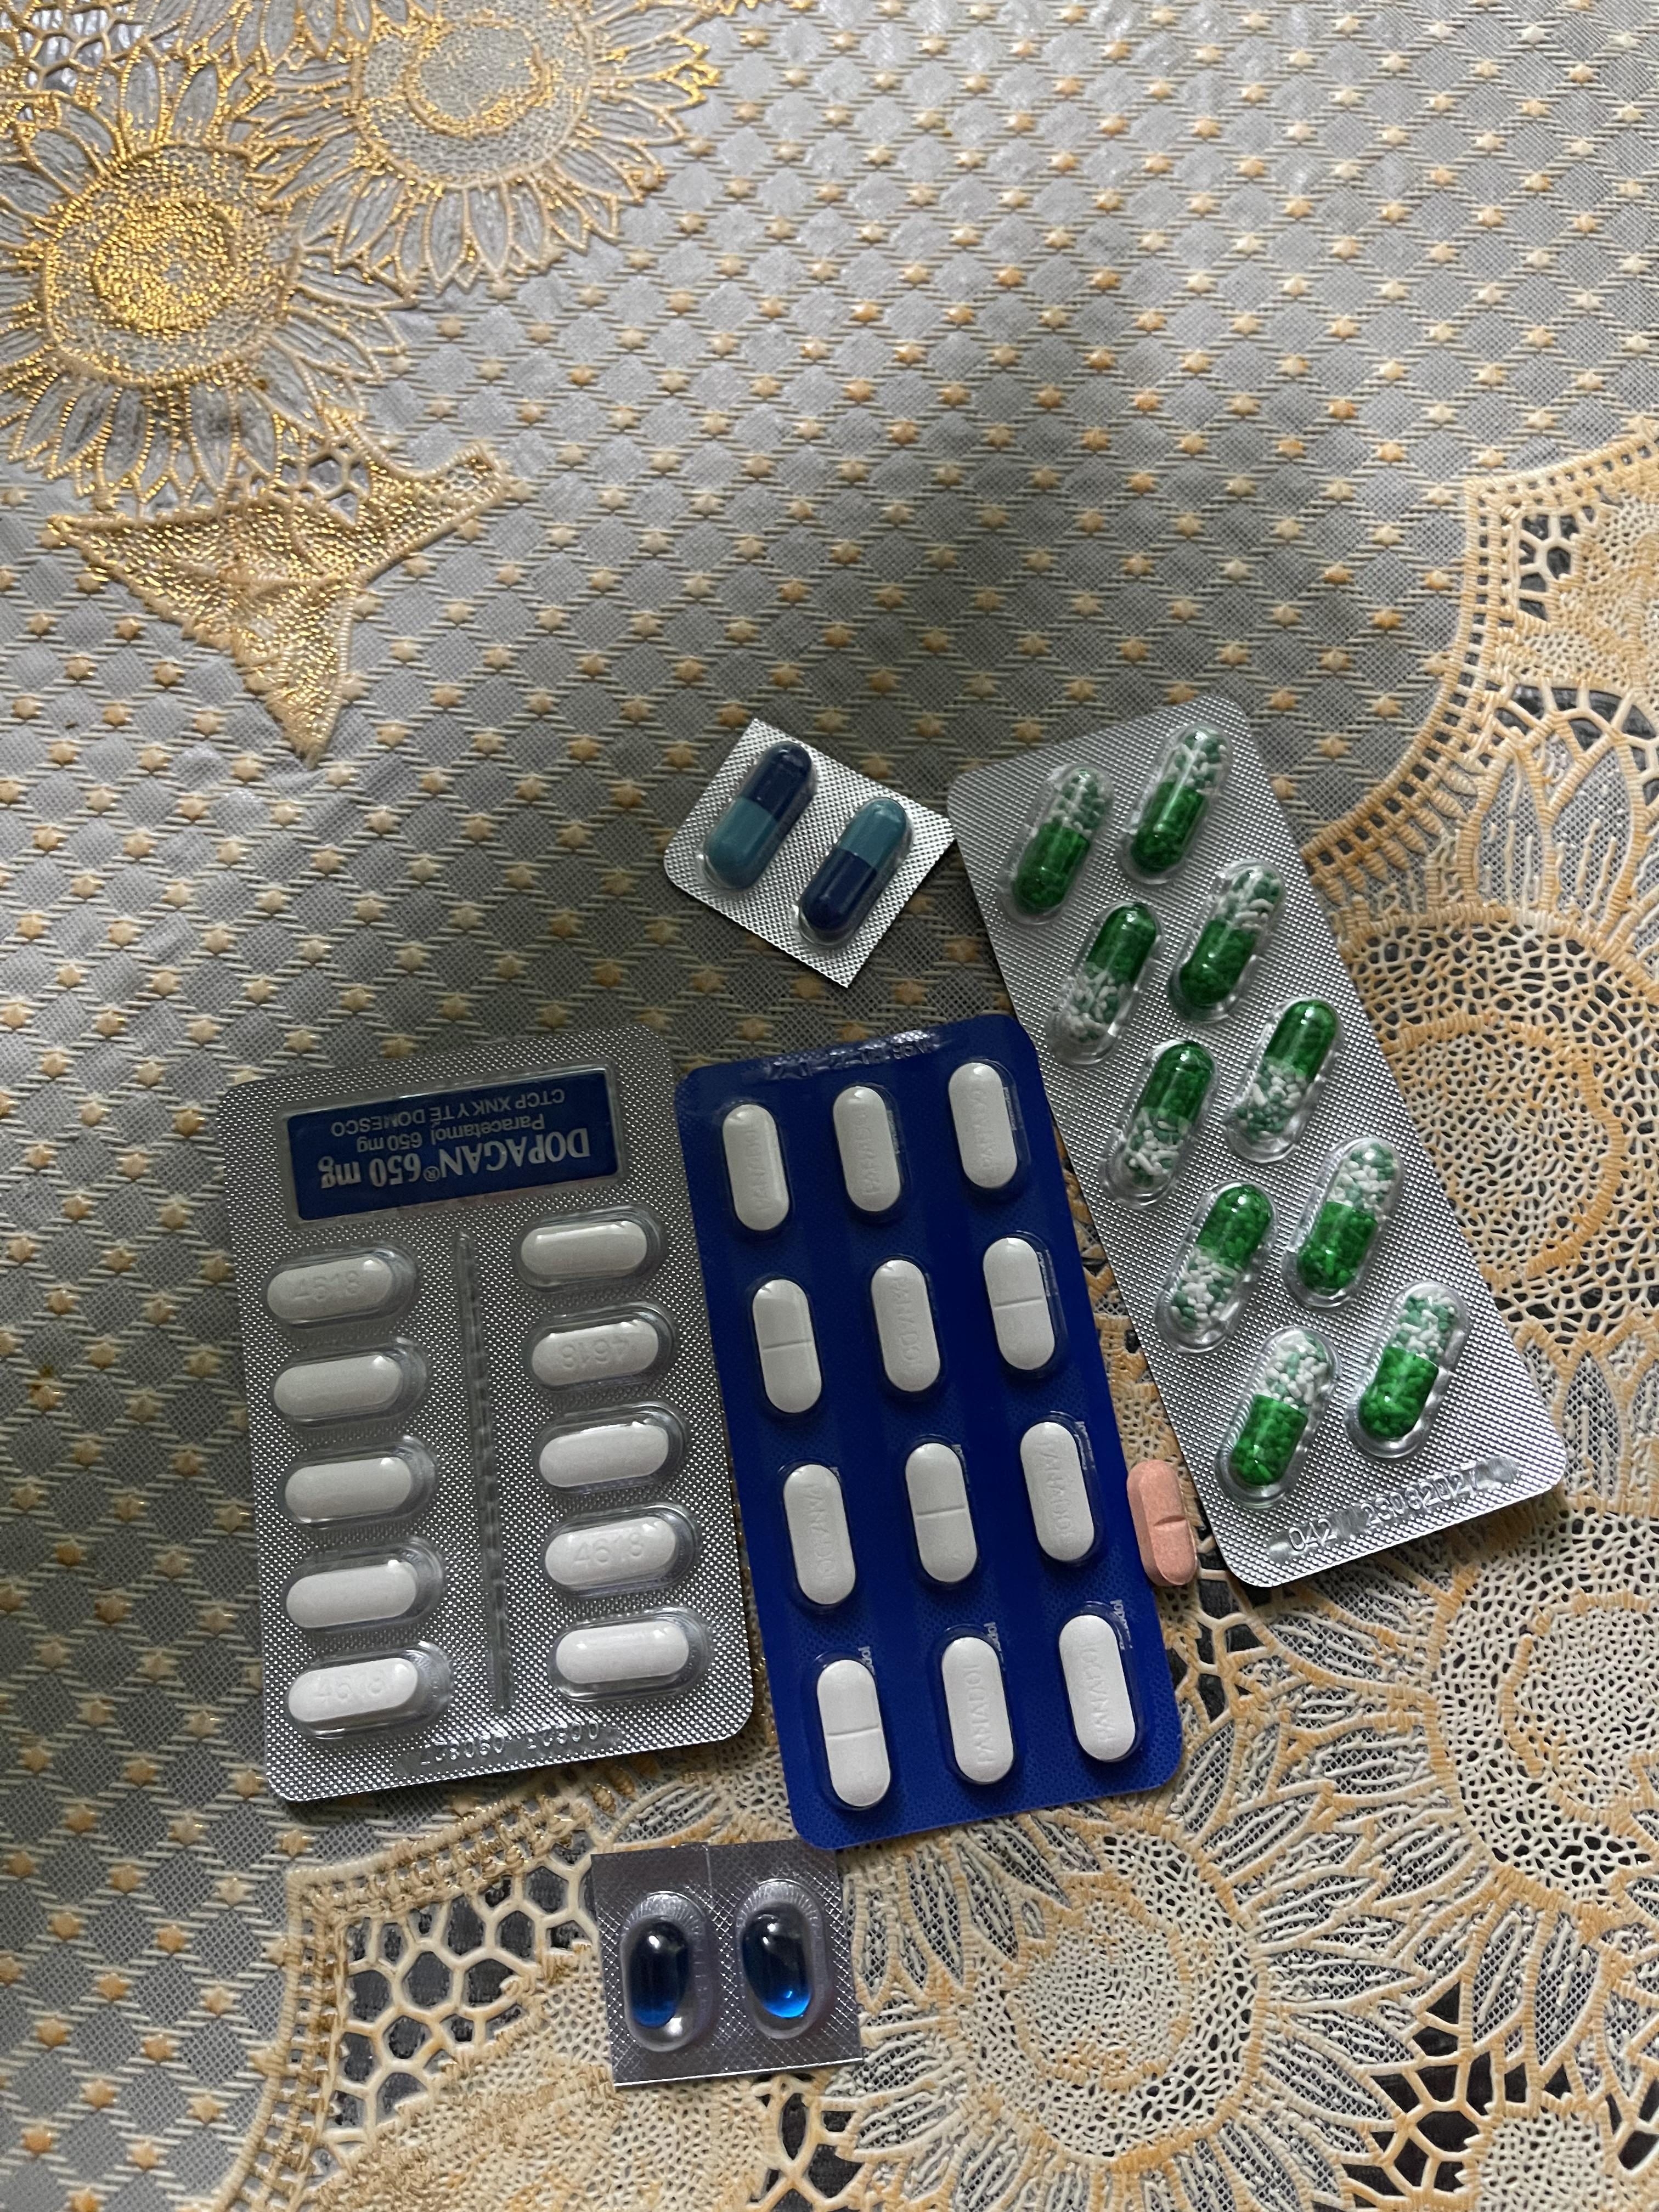Lincomyxin_500mg: (739, 1909, 810, 2026), (626, 1919, 694, 2034)
Loratadine_10mg: (1131, 1460, 1194, 1580)
Paracetamol_350mg: (1058, 1613, 1138, 1766), (939, 1635, 1016, 1787), (1019, 1421, 1100, 1564), (816, 1660, 890, 1810), (904, 1444, 978, 1587), (784, 1465, 856, 1608), (983, 1238, 1058, 1371), (870, 1259, 943, 1393), (751, 1278, 821, 1413), (948, 1064, 1021, 1191), (833, 1087, 904, 1214), (721, 1104, 788, 1228)
Paracetamol_500mg: (284, 1649, 441, 1733), (263, 1245, 416, 1327), (268, 1350, 423, 1426), (282, 1447, 434, 1526), (542, 1510, 687, 1592), (282, 1555, 430, 1634), (537, 1413, 680, 1493), (518, 1212, 657, 1284), (554, 1618, 692, 1689), (530, 1315, 664, 1386)
Paracetamol_650mg: (1155, 1181, 1270, 1341), (1168, 864, 1281, 1017), (1227, 1324, 1331, 1489), (1297, 1141, 1406, 1291), (1227, 1003, 1342, 1144), (1049, 906, 1157, 1055), (1359, 1289, 1462, 1437), (1007, 766, 1107, 914), (1127, 728, 1223, 874), (1119, 1045, 1211, 1177)
pill: (795, 796, 913, 948), (704, 738, 817, 894)
